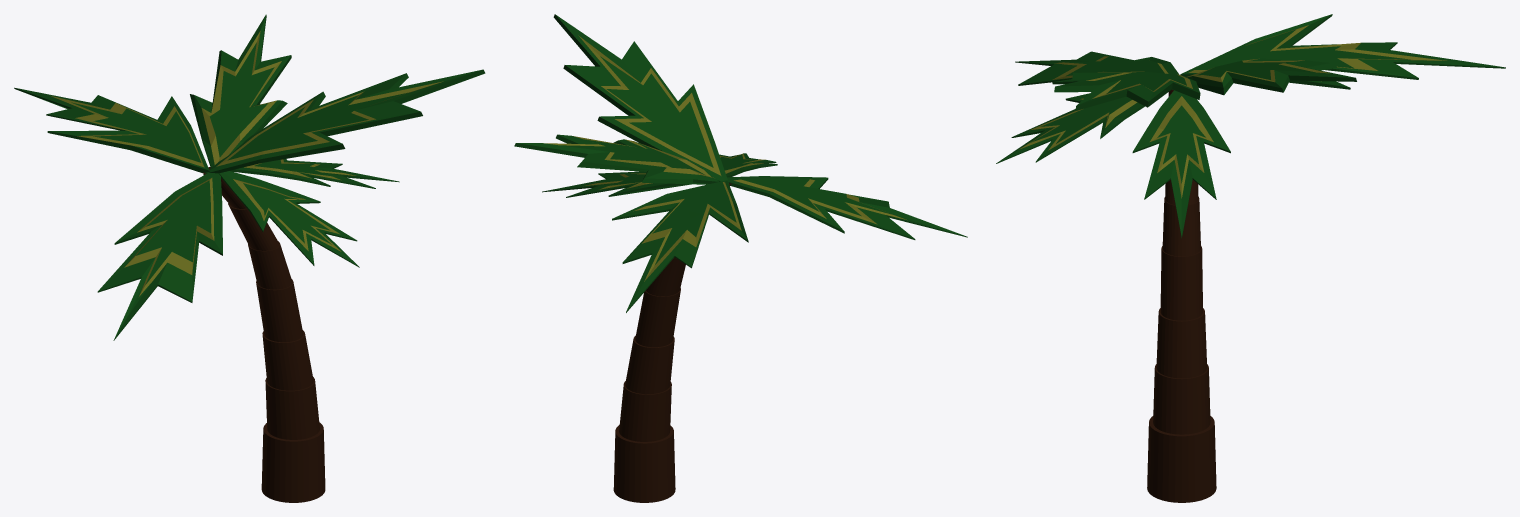
File: SM_PalmTree.fbx
3 renders of one model, left to right at view 1: azimuth 30°, elevation 25°; view 2: azimuth 150°, elevation 25°; view 3: azimuth 270°, elevation 25°, orthographic. The views are drawn at different scales.
Parts seen in each view (by area): view 1: Cylinder; view 2: Cylinder; view 3: Cylinder.
Boxes of the visible parts, x1,y1,x2,y2 form: Cylinder: (14, 14, 485, 502); Cylinder: (514, 14, 967, 502); Cylinder: (996, 14, 1505, 502).
Size of the model in its own units: 13170 by 13260 by 13402.
